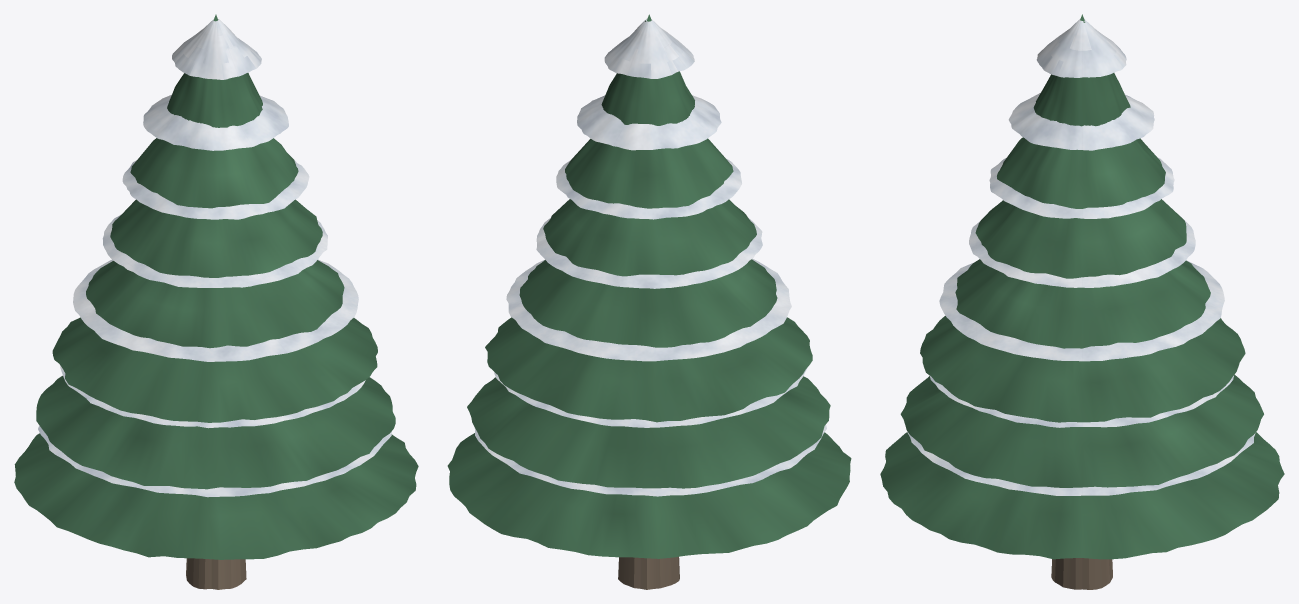
File: snowy-pine-v01.glb
The picture shows the model from 3 angles, left to right: view 1: azimuth 30°, elevation 25°; view 2: azimuth 150°, elevation 25°; view 3: azimuth 270°, elevation 25°; orthographic projection.
Parts seen in each view (by area): view 1: snowy-pine; view 2: snowy-pine; view 3: snowy-pine.
Boxes of the visible parts, x1=… form: snowy-pine: x1=14, y1=14, x2=418, y2=589; snowy-pine: x1=447, y1=14, x2=851, y2=589; snowy-pine: x1=880, y1=14, x2=1284, y2=589.
Size of the model in its own units: 4.95 by 7.66 by 4.98.
3 materials, 1 textured.
